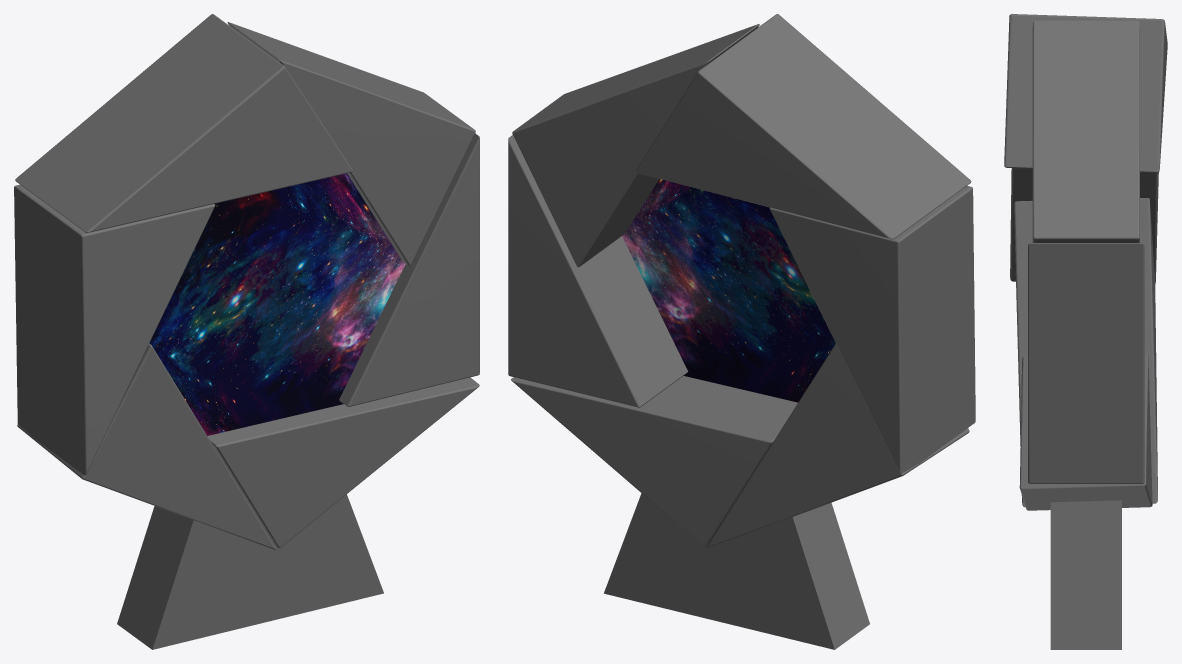
Rendered from TTravelMachine_OPEN.fbx.
3 renders of one model, left to right at view 1: azimuth 30°, elevation 25°; view 2: azimuth 150°, elevation 25°; view 3: azimuth 270°, elevation 25°, orthographic.
Parts seen in each view (by area): view 1: pPlane1, pCube5, pCube6, pCube7, pCube1, pCube4, pCube2, pCube3; view 2: pCube5, pCube6, pPlane1, pCube2, pCube7, pCube4, pCube1, pCube3; view 3: pCube2, pCube1, pCube7, pCube5, pCube3, pCube4, pCube6.
Part boxes in pixels (<box>): pPlane1: <box>149,173,405,435</box>; pCube5: <box>15,14,353,232</box>; pCube6: <box>14,184,215,475</box>; pCube7: <box>117,494,383,649</box>; pCube1: <box>227,22,475,266</box>; pCube4: <box>207,377,479,548</box>; pCube2: <box>339,133,479,406</box>; pCube3: <box>17,343,276,550</box>; pCube5: <box>635,14,971,239</box>; pCube6: <box>769,185,975,474</box>; pPlane1: <box>622,179,835,402</box>; pCube2: <box>508,135,688,407</box>; pCube7: <box>604,493,869,649</box>; pCube4: <box>511,376,797,546</box>; pCube1: <box>512,24,759,267</box>; pCube3: <box>706,343,969,548</box>; pCube2: <box>1028,243,1144,483</box>; pCube1: <box>1032,20,1139,242</box>; pCube7: <box>1050,500,1121,649</box>; pCube5: <box>1004,14,1167,172</box>; pCube3: <box>1014,198,1157,507</box>; pCube4: <box>1019,353,1152,510</box>; pCube6: <box>1010,168,1158,283</box>.
Bounding box in the file's own units: 52.44 × 70.67 × 18.18.
2 materials, 1 textured.
